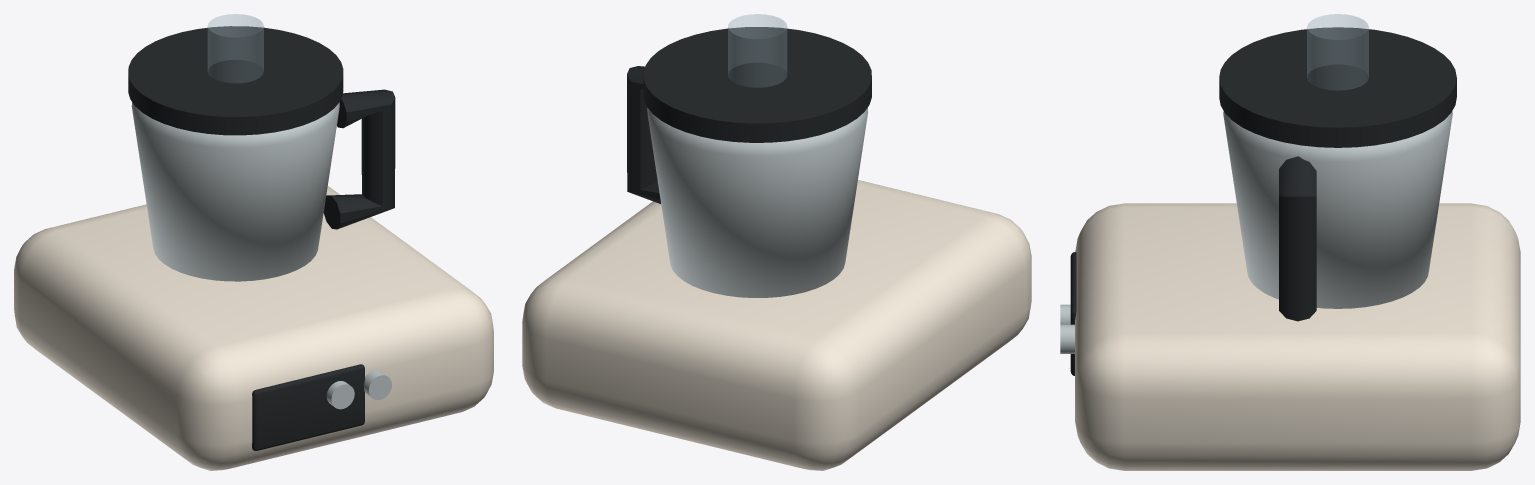
Rendered from robot_cocina_base.glb.
3 views of the same model, side by side, from view 1: azimuth 30°, elevation 25°; view 2: azimuth 150°, elevation 25°; view 3: azimuth 270°, elevation 25° (orthographic). The views are drawn at different scales.
Parts seen in each view (by area): view 1: robot_cocina_base; view 2: robot_cocina_base; view 3: robot_cocina_base.
Part boxes in pixels (x1=…): robot_cocina_base: x1=14, y1=14, x2=493, y2=470; robot_cocina_base: x1=522, y1=14, x2=1031, y2=470; robot_cocina_base: x1=1060, y1=14, x2=1520, y2=470.
Size of the model in its own units: 0.32 by 0.336 by 0.372.
